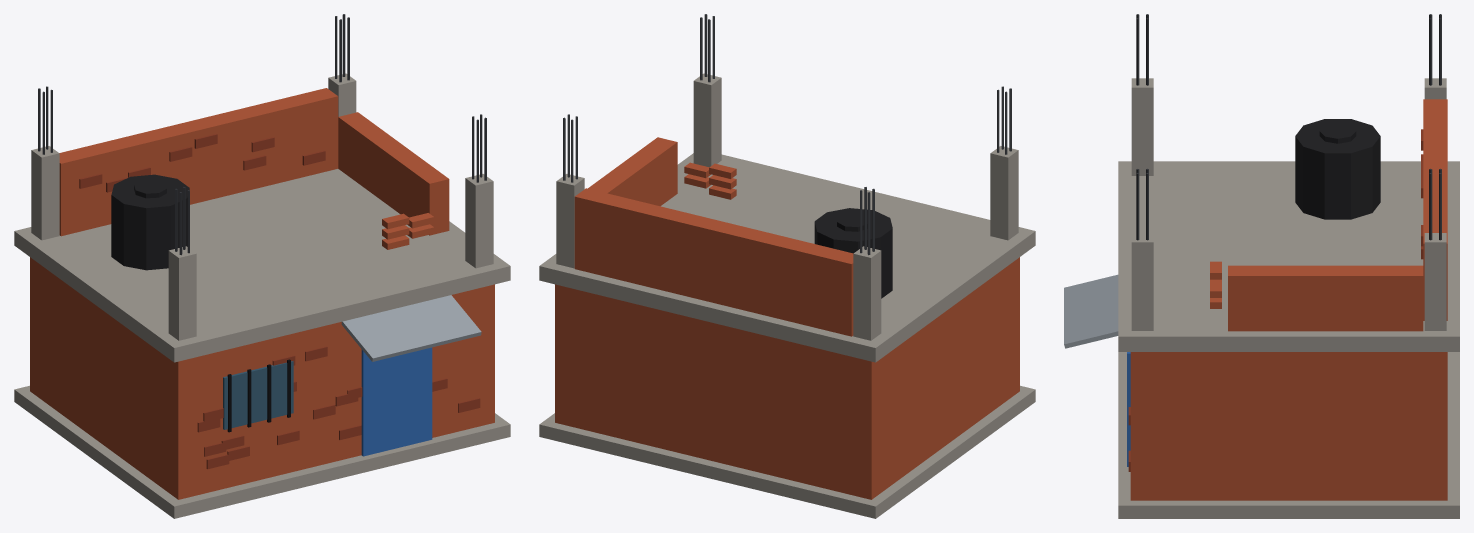
The model's file is Casa de ladrillo.fbx.
3 renders of one model, left to right at view 1: azimuth 30°, elevation 25°; view 2: azimuth 150°, elevation 25°; view 3: azimuth 270°, elevation 25°, orthographic. The views are drawn at different scales.
Visible parts, largest first — view 1: Casa de ladrillo; view 2: Casa de ladrillo; view 3: Casa de ladrillo.
Boxes of the visible parts, box(x1,y1,x2,y2) form: Casa de ladrillo: box(14, 14, 510, 518); Casa de ladrillo: box(539, 14, 1035, 518); Casa de ladrillo: box(1064, 14, 1459, 518).
Bounding box in the file's own units: 3.4 × 3.05 × 3.24.
